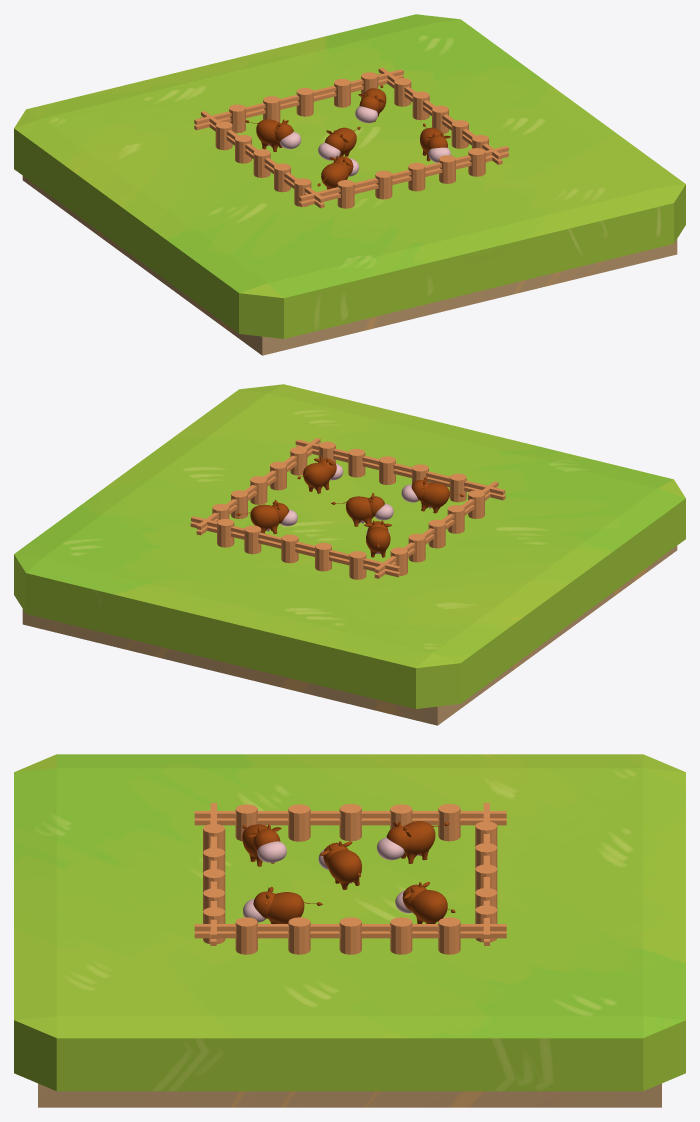
File: kuhfarm (2).fbx
3 views of the same model, one above another, from view 1: azimuth 30°, elevation 25°; view 2: azimuth 150°, elevation 25°; view 3: azimuth 270°, elevation 25° (orthographic). The views are drawn at different scales.
Parts seen in each view (by area): view 1: Cube.001, zaun, Cube, body, body.002; view 2: Cube.001, zaun, Cube, body.003, body.002, body.001, body.004, body; view 3: Cube.001, zaun, Cube, body.004, body.001, body.003, body.
Part boxes in pixels (bbox=[...]): Cube.001: bbox=[14, 14, 685, 338]; zaun: bbox=[194, 67, 508, 208]; Cube: bbox=[22, 176, 677, 355]; body: bbox=[256, 119, 282, 151]; body.002: bbox=[321, 162, 349, 189]; Cube.001: bbox=[14, 384, 685, 708]; zaun: bbox=[190, 438, 505, 579]; Cube: bbox=[22, 546, 677, 725]; body.003: bbox=[303, 462, 331, 493]; body.002: bbox=[420, 482, 449, 513]; body.001: bbox=[250, 504, 279, 533]; body.004: bbox=[346, 496, 373, 526]; body: bbox=[366, 527, 390, 557]; Cube.001: bbox=[14, 754, 685, 1091]; zaun: bbox=[194, 803, 506, 954]; Cube: bbox=[38, 1083, 661, 1107]; body.004: bbox=[327, 849, 361, 889]; body.001: bbox=[410, 890, 447, 923]; body.003: bbox=[268, 892, 304, 923]; body: bbox=[401, 821, 435, 863].
Size of the model in its own units: 108 by 21.92 by 108.
